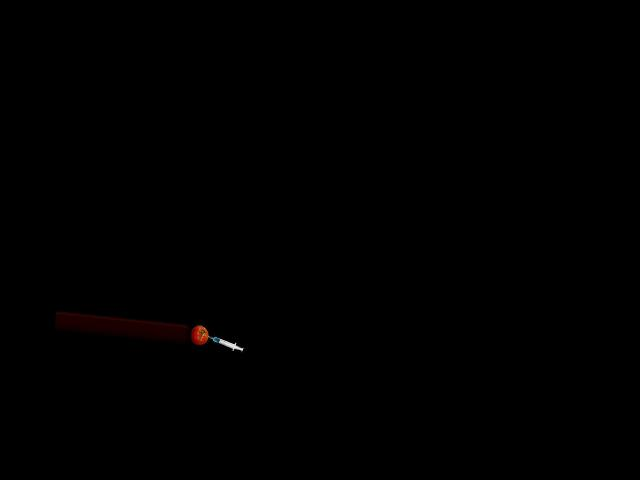tomato: (189, 324, 209, 346)
